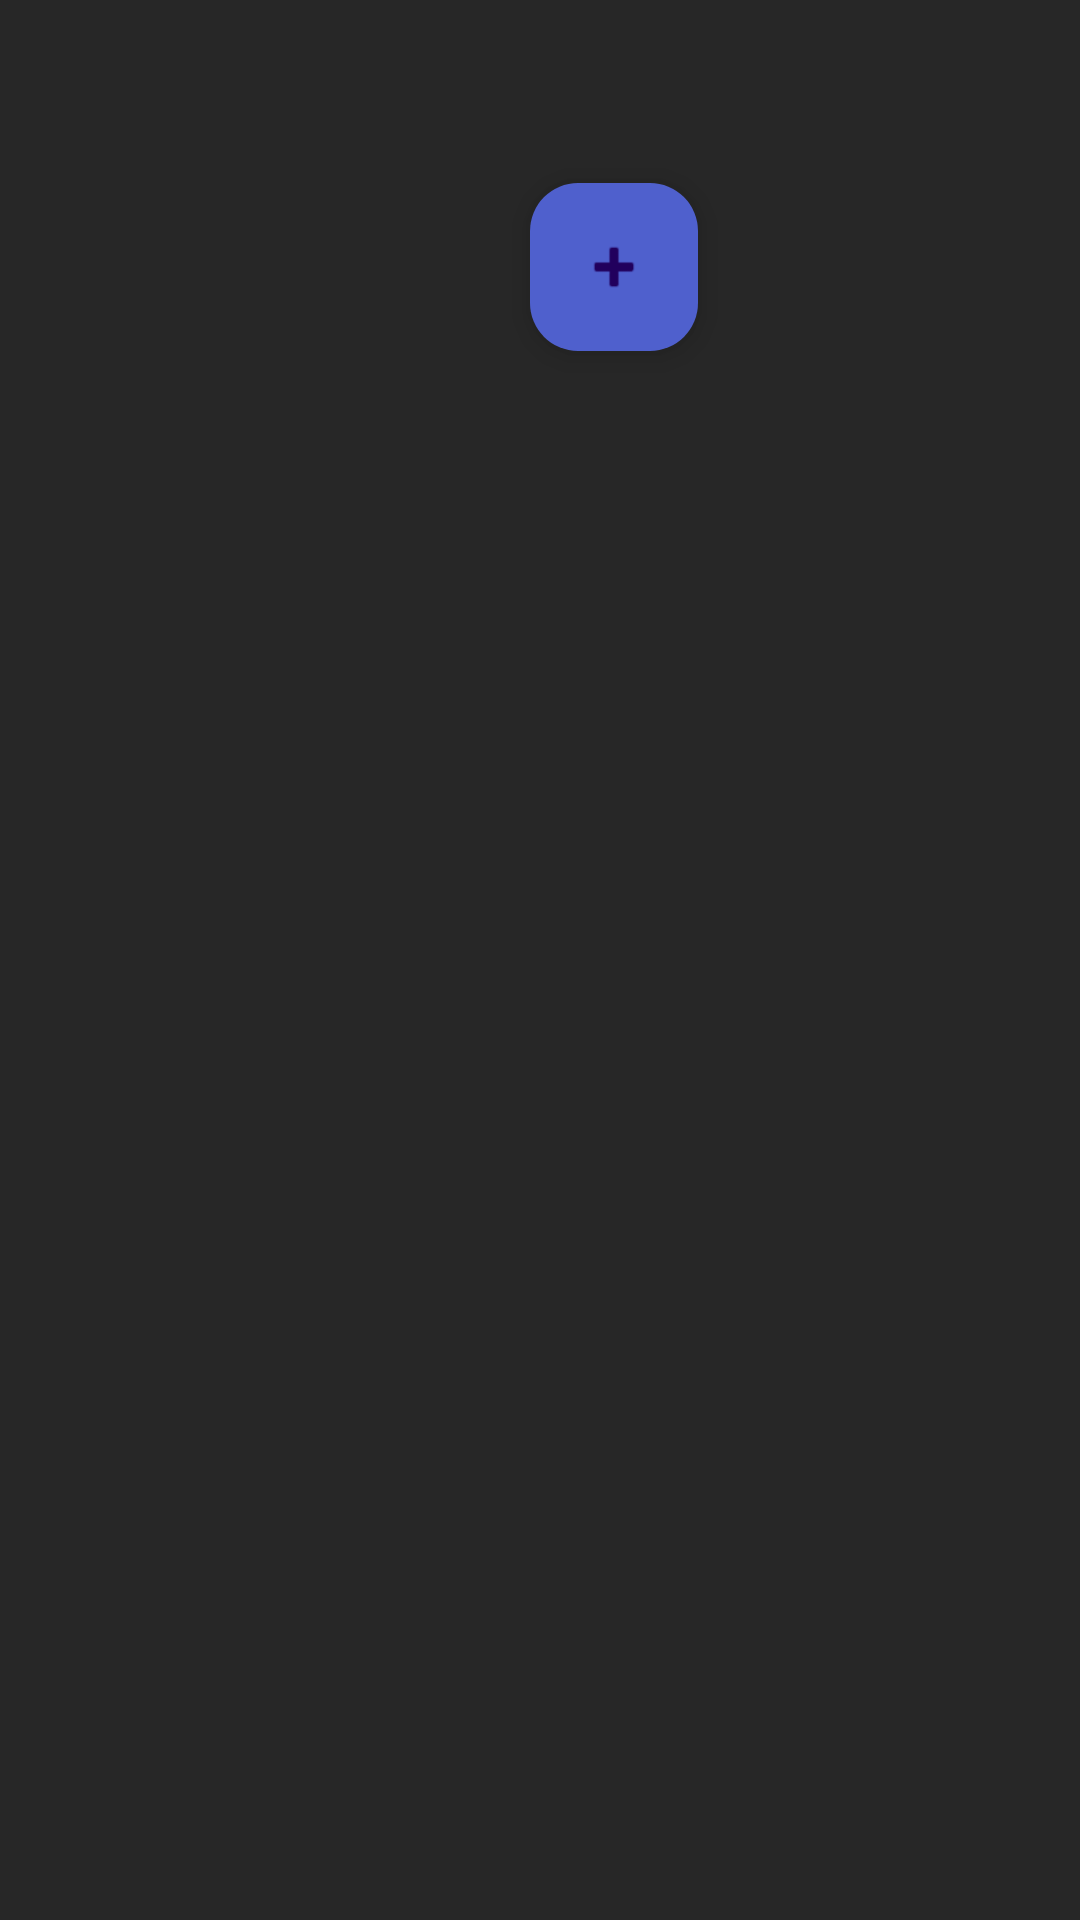

Screen size 1080*1920. Icon name, then its center in pixels as point (x, y):
add: point (614, 267)
